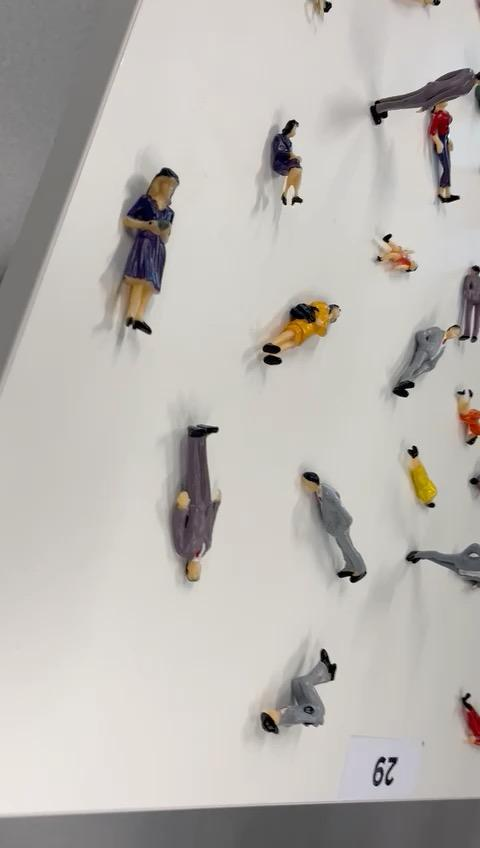human: (116, 159, 186, 339), (165, 417, 229, 587), (296, 464, 369, 587), (257, 643, 345, 739), (366, 60, 480, 127), (259, 294, 346, 369), (391, 324, 462, 403), (265, 110, 312, 213), (372, 226, 424, 279), (402, 441, 439, 511)
